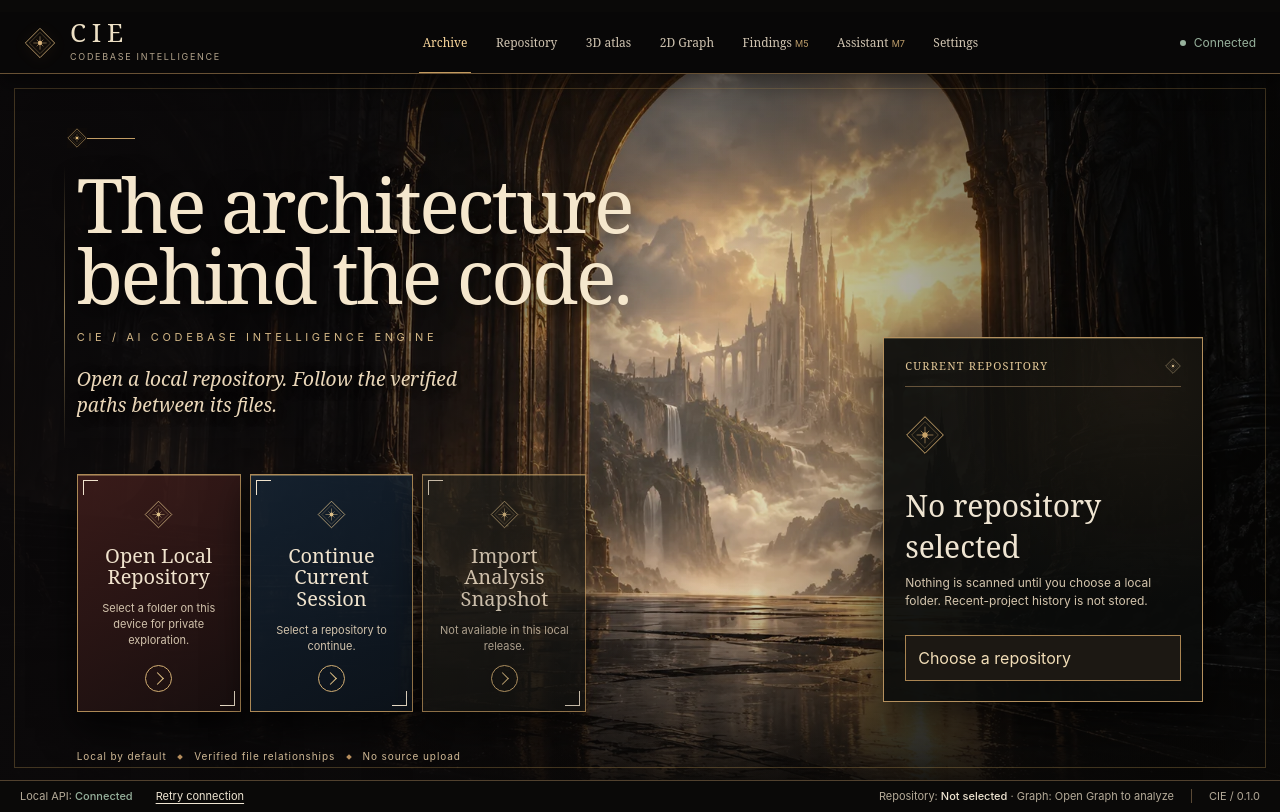
Test: opens Findings from the header without a selected repository
Click the button "Findings M5" at [776, 42], box [738,12,813,73]
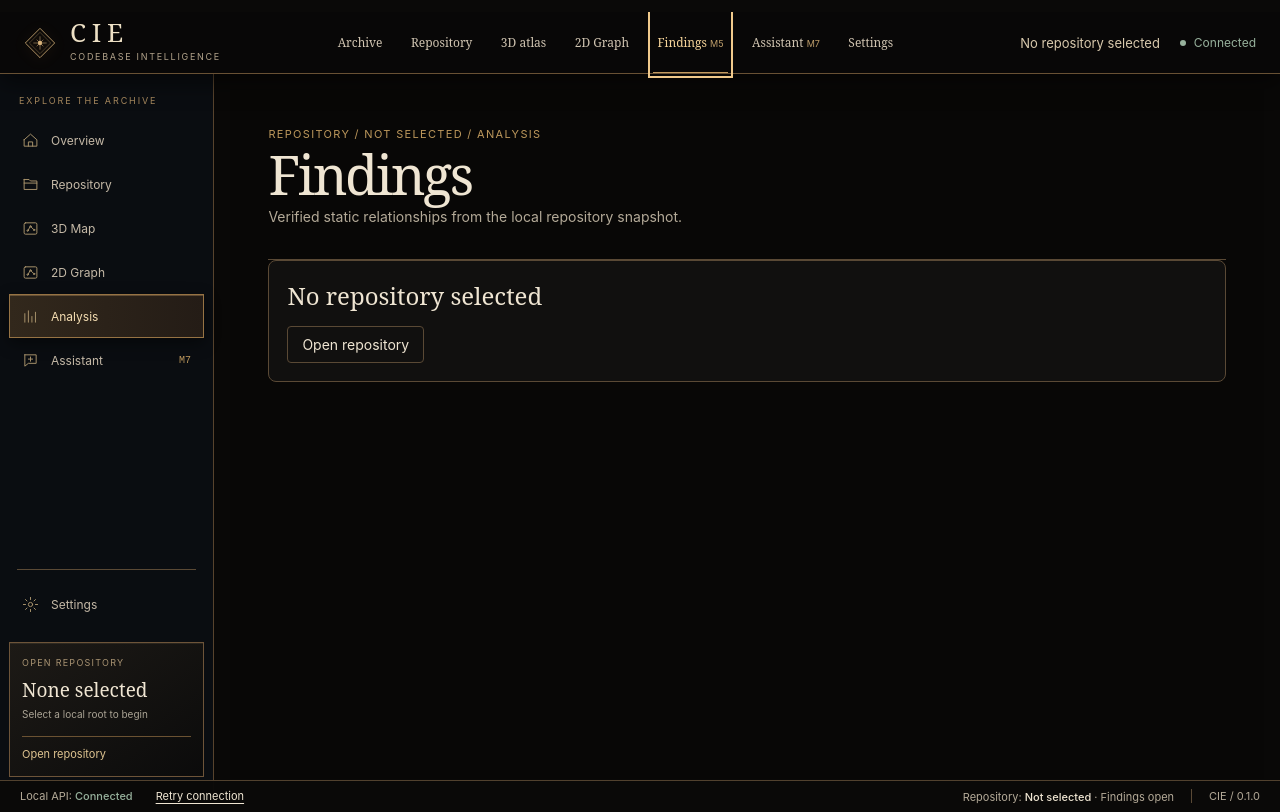
Expected: the heading "No repository selected" is shown, [287,279,542,312]
Expected: the heading "Findings" is shown, [268,137,472,211]
Expected: the text "Repository: Not selected · Findings open" is shown, [963,790,1174,804]
